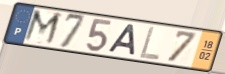5: (83, 17, 116, 53)
7: (166, 29, 198, 64), (60, 12, 86, 51)
A: (106, 23, 137, 58)
L: (137, 25, 162, 62)
M: (21, 8, 64, 47)
